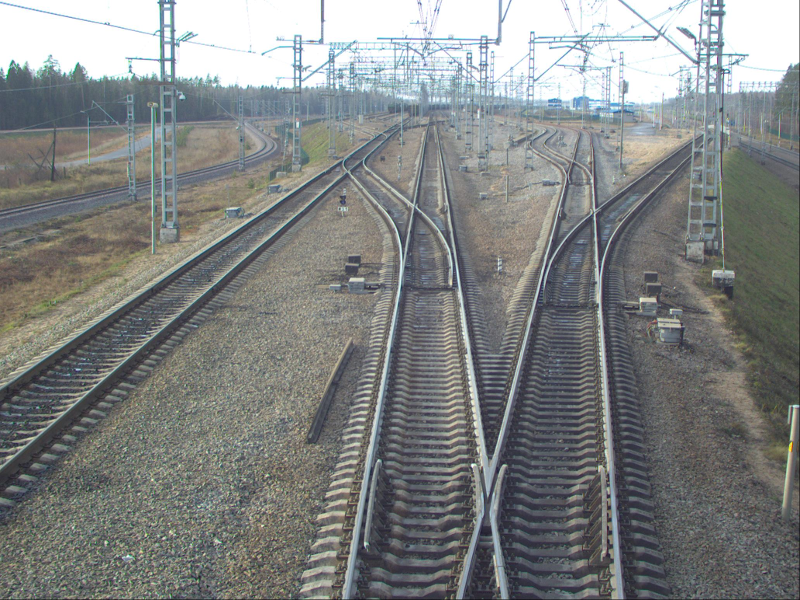left: (536, 258, 606, 294)
right: (394, 246, 464, 287)
